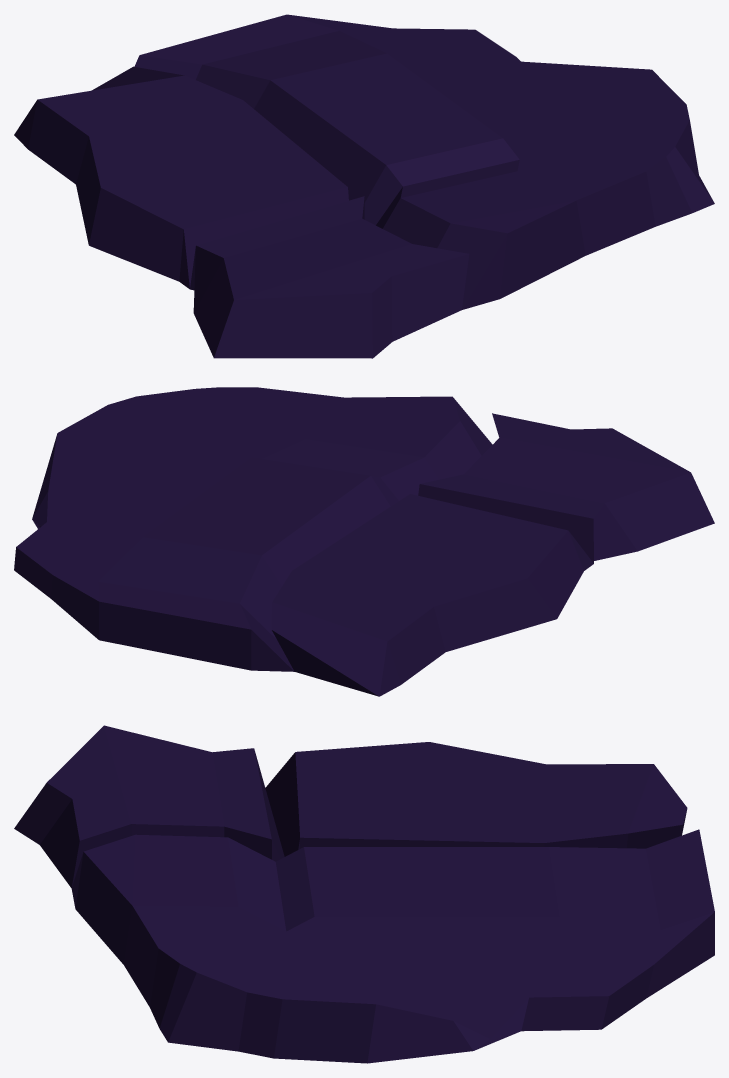
The model's file is ground_002_grp.fbx.
3 views of the same model, one above another, from view 1: azimuth 30°, elevation 25°; view 2: azimuth 150°, elevation 25°; view 3: azimuth 270°, elevation 25° (orthographic). The views are drawn at different scales.
Parts seen in each view (by area): view 1: ground_002_grp; view 2: ground_002_grp; view 3: ground_002_grp.
Boxes of the visible parts, x1,y1,x2,y2 form: ground_002_grp: (14,14,714,358); ground_002_grp: (14,387,714,696); ground_002_grp: (14,725,714,1063).
Bounding box in the file's own units: 100 × 10 × 100.
